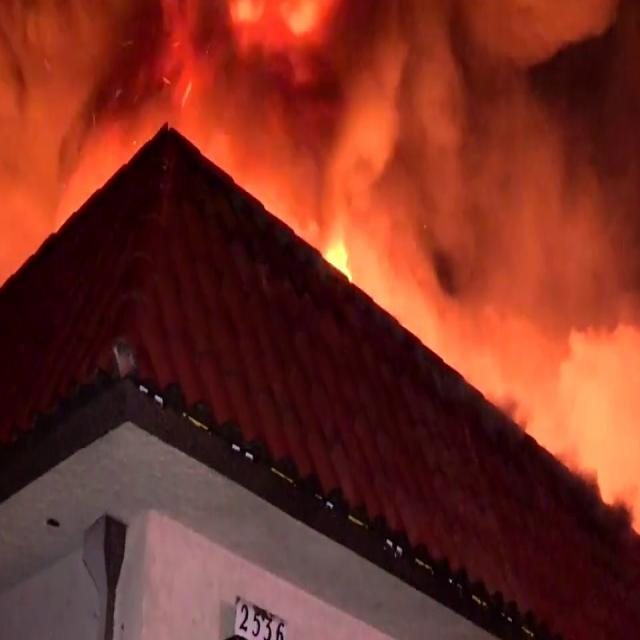smoke: (452, 56, 640, 384)
